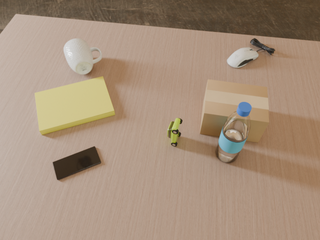book: (35, 76, 115, 135)
bottle: (216, 102, 252, 163)
box: (200, 80, 269, 142)
cup: (64, 39, 102, 74)
mouse: (227, 48, 258, 68)
phone: (53, 146, 101, 180)
toy_car: (167, 118, 182, 146)
